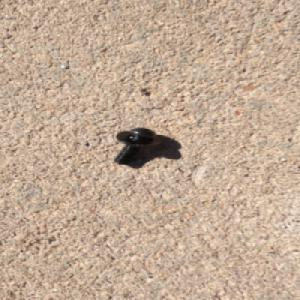BoltWasher: (110, 126, 162, 165)
